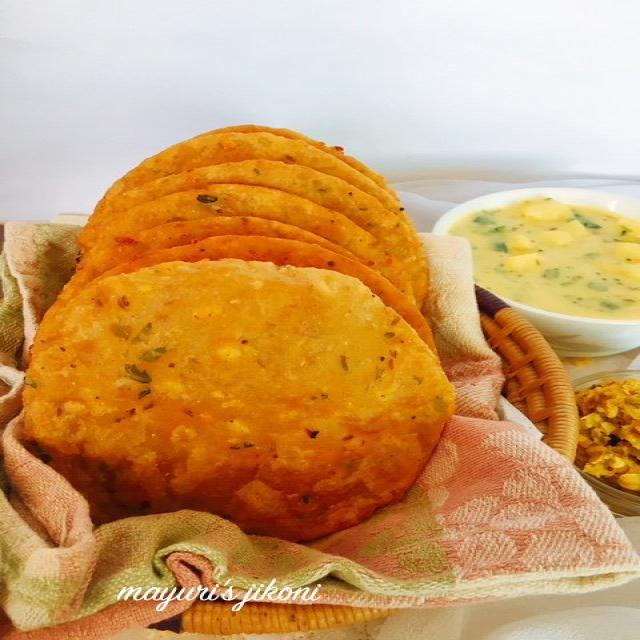potato: (470, 182, 635, 314)
puri: (23, 48, 419, 540)
